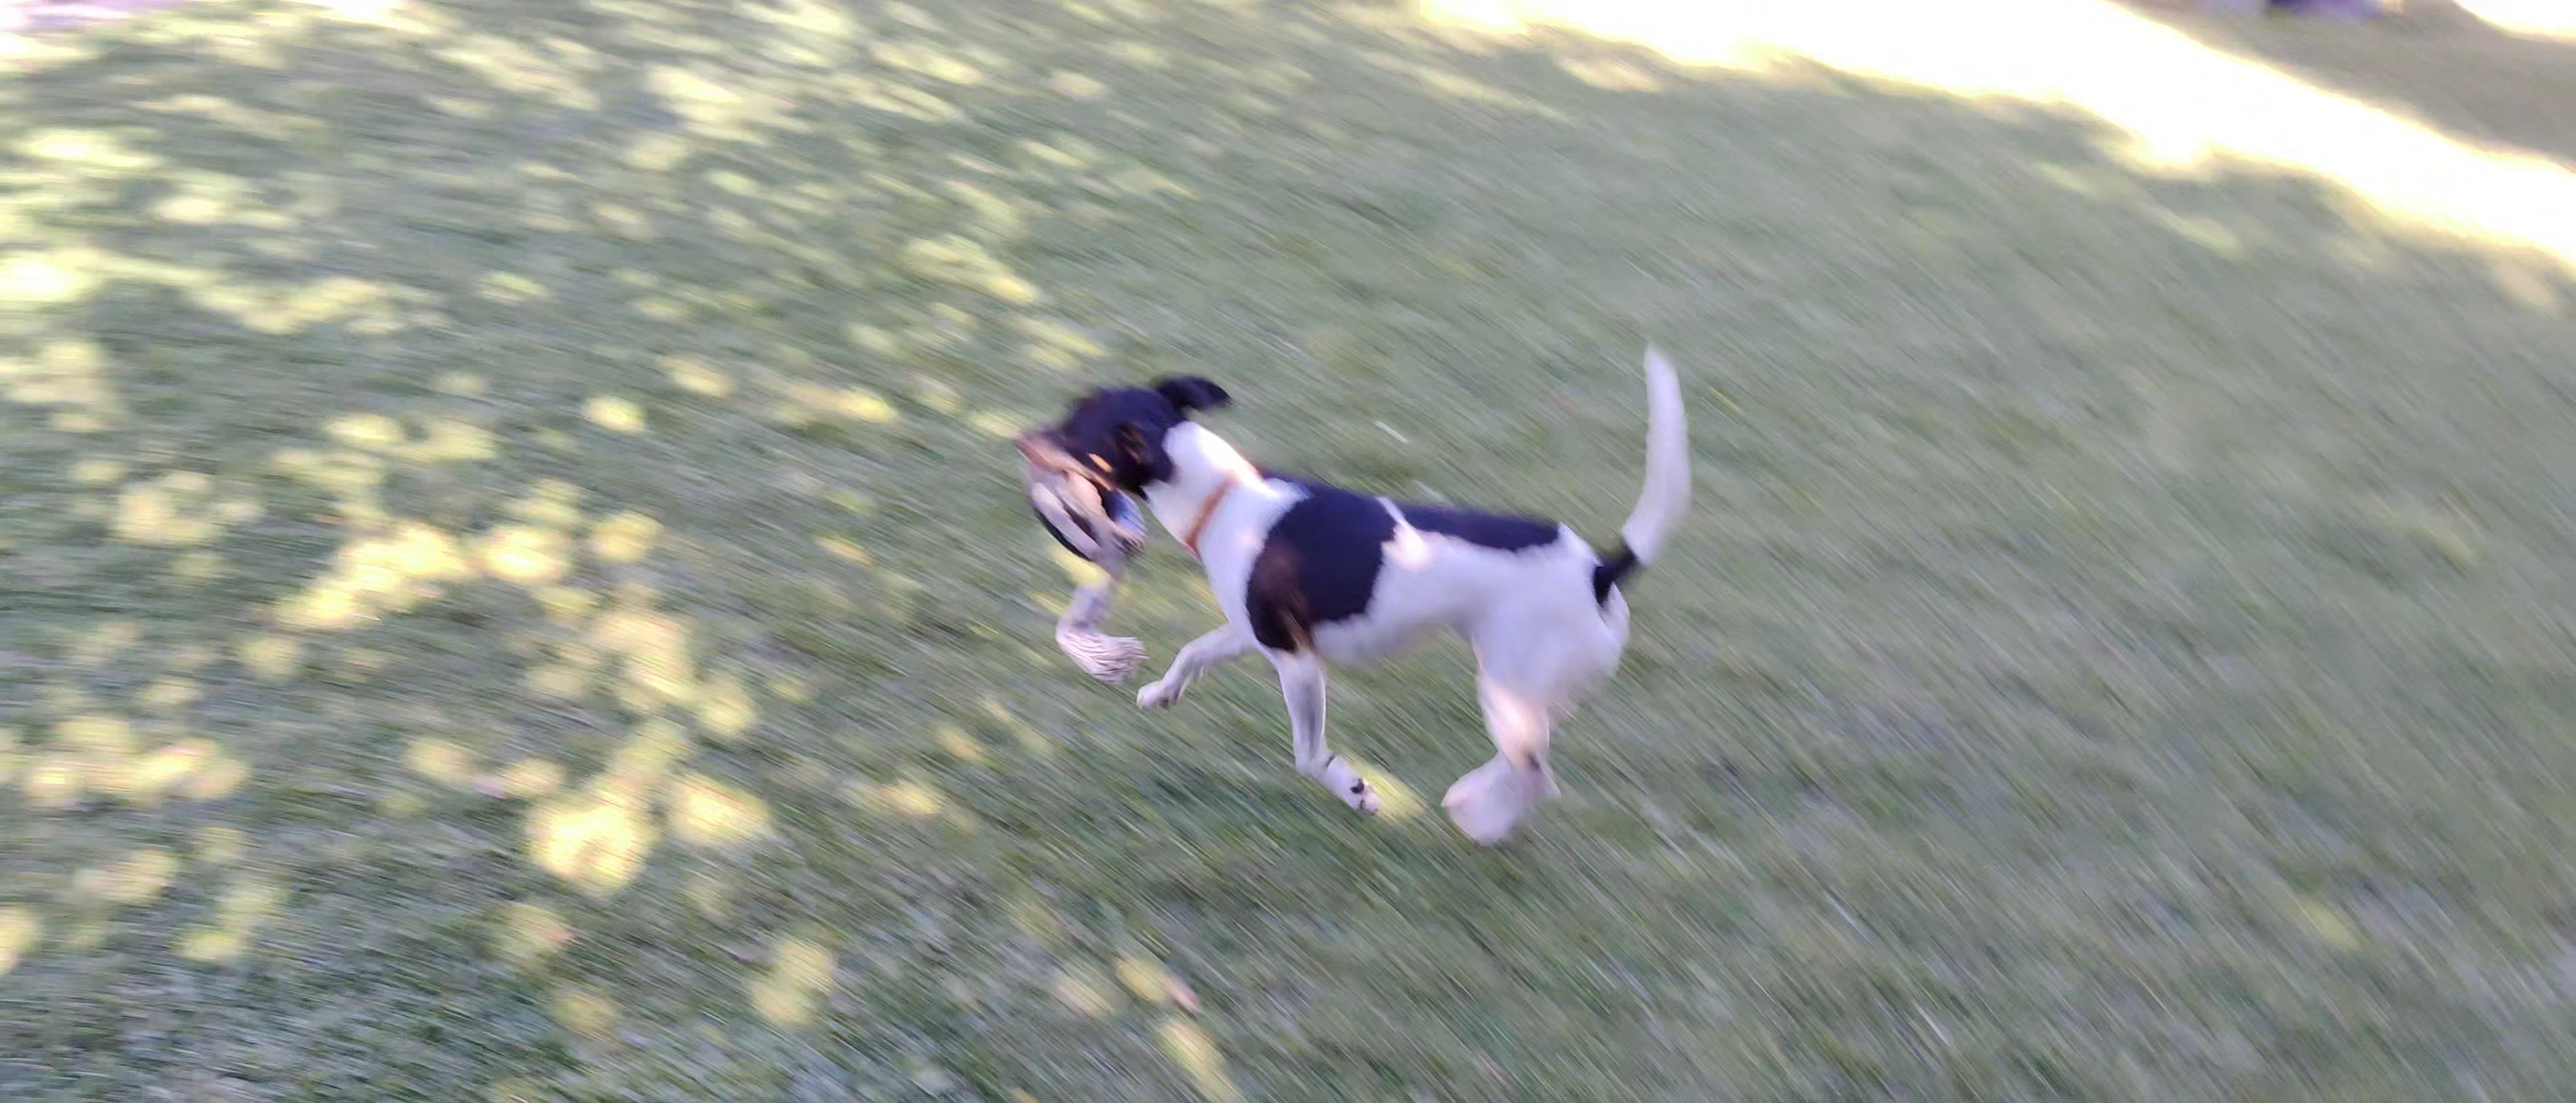Dog: (1002, 306, 1702, 847)
